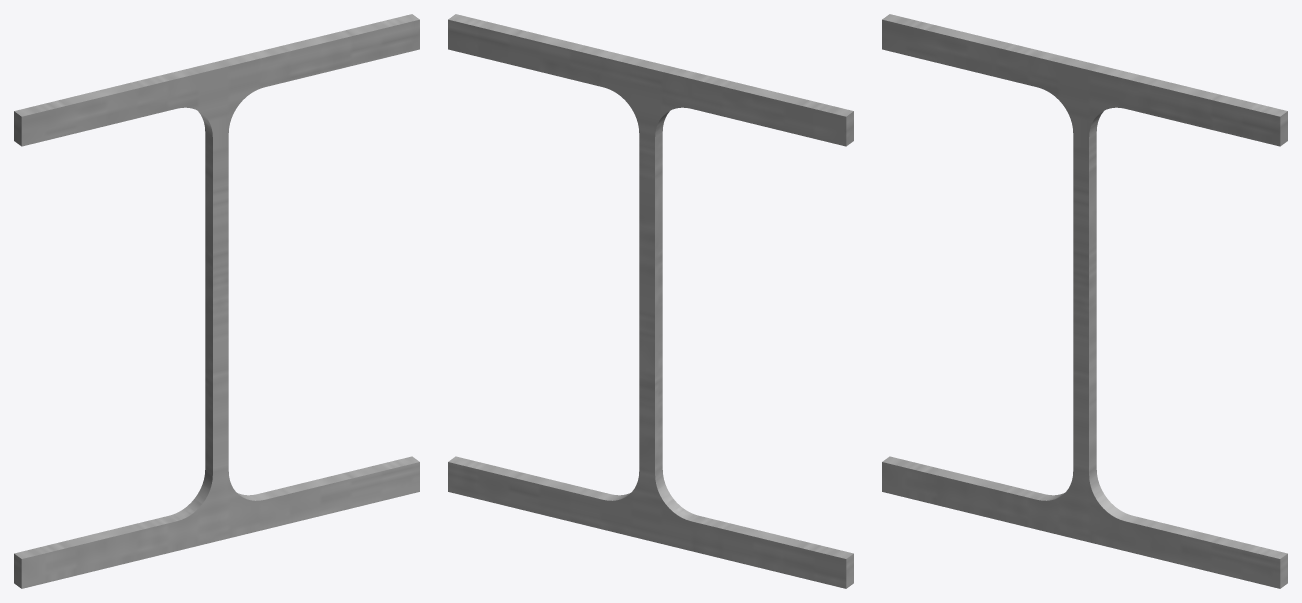
The model's file is HEB340.glb.
The picture shows the model from 3 angles, left to right: view 1: azimuth 30°, elevation 25°; view 2: azimuth 150°, elevation 25°; view 3: azimuth 330°, elevation 25°; orthographic projection.
Bounding box in the file's own units: 30 × 34 × 1.
Materials: 1 (1 with a texture image).
